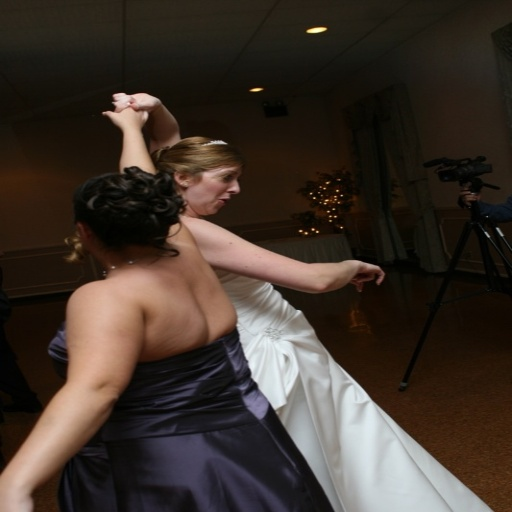hand: (345, 256, 388, 295), (97, 101, 150, 128), (114, 92, 166, 114), (0, 483, 33, 511)
